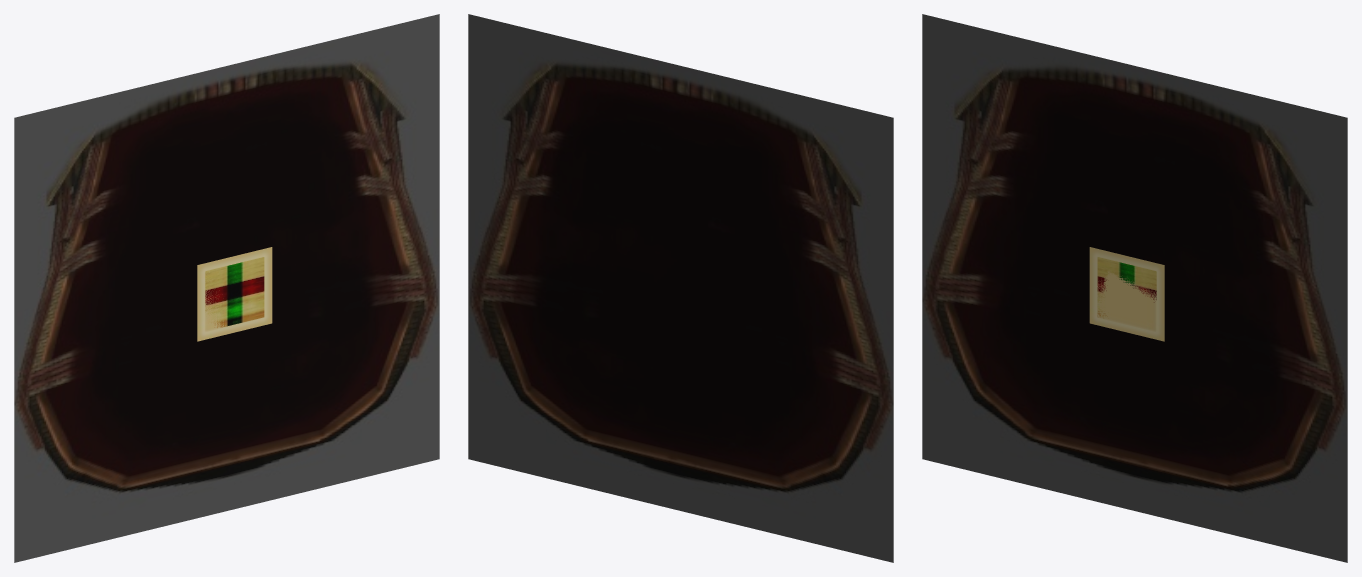
The model's file is pir_m_gui_srp_bracing_main.fbx.
The picture shows the model from 3 angles, left to right: view 1: azimuth 30°, elevation 25°; view 2: azimuth 150°, elevation 25°; view 3: azimuth 330°, elevation 25°; orthographic projection.
Parts seen in each view (by area): view 1: background, over.004, selected; view 2: background; view 3: background, selected, over.004.
Part boxes in pixels (x1,y1,x2,y2): background: (14, 14, 439, 562); over.004: (205, 257, 264, 327); selected: (197, 247, 272, 341); background: (468, 14, 893, 562); background: (922, 14, 1347, 562); selected: (1089, 247, 1164, 341); over.004: (1097, 257, 1156, 318).
Size of the model in its own units: 101 by 101 by 3.26.
3 materials, 3 textured.
